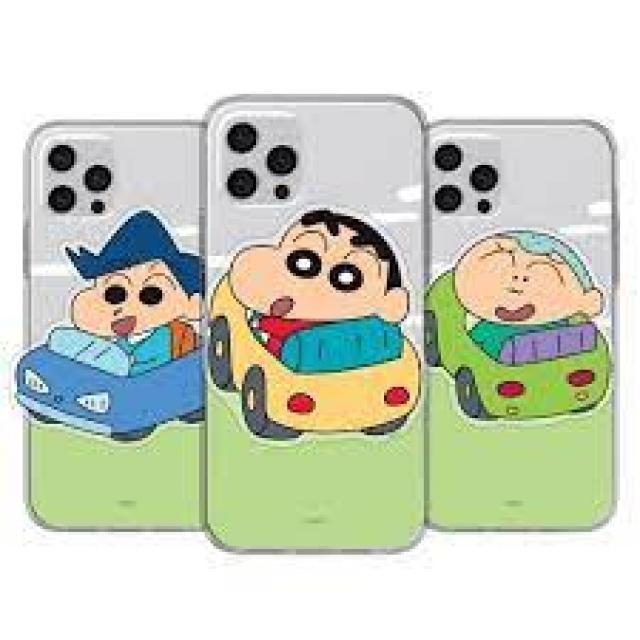lens: (228, 117, 300, 211), (434, 134, 501, 219), (47, 133, 112, 218)
phone: (197, 90, 428, 559), (426, 117, 621, 539), (18, 117, 206, 536)
